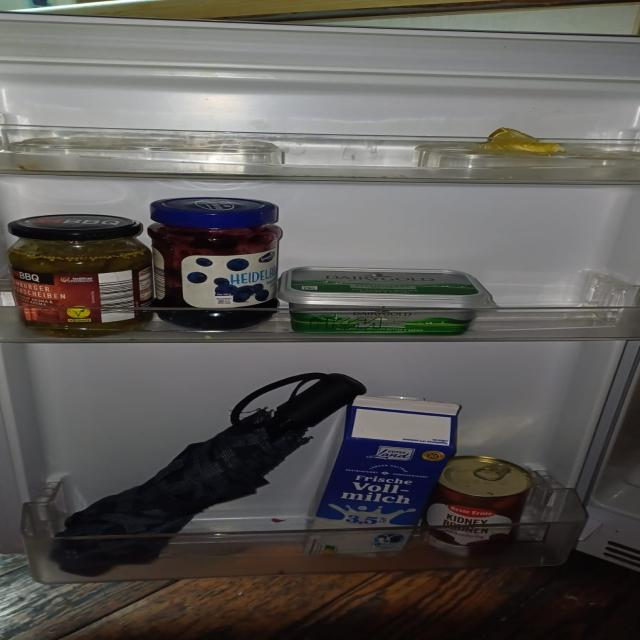Beans: (434, 453, 527, 552)
Butter: (283, 262, 498, 334)
Jam: (138, 195, 282, 328)
Lemon: (475, 121, 561, 164)
Milk: (313, 387, 451, 559)
Pickle: (7, 207, 151, 331)
Umbrella: (59, 363, 348, 562)
